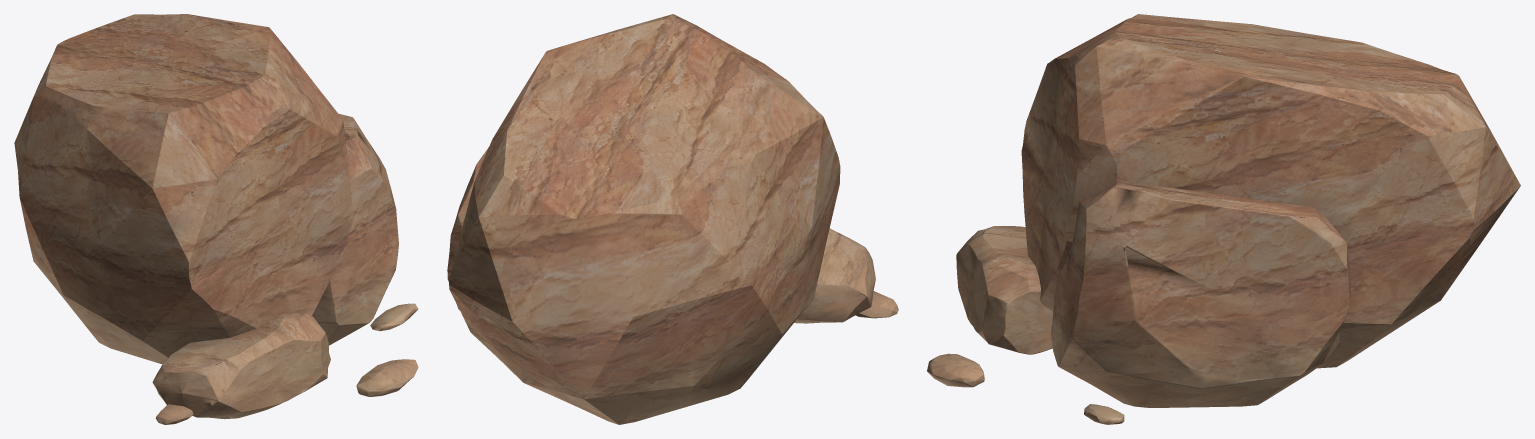
Rendered from flanker_right.glb.
3 renders of one model, left to right at view 1: azimuth 30°, elevation 25°; view 2: azimuth 150°, elevation 25°; view 3: azimuth 270°, elevation 25°, orthographic. The views are drawn at different scales.
Parts seen in each view (by area): view 1: Fractured sanctuary flanker.001; view 2: Fractured sanctuary flanker.001; view 3: Fractured sanctuary flanker.001.
Boxes of the visible parts, x1,y1,x2,y2 form: Fractured sanctuary flanker.001: [14, 14, 418, 424]; Fractured sanctuary flanker.001: [447, 14, 898, 424]; Fractured sanctuary flanker.001: [927, 14, 1520, 424].
Bounding box in the file's own units: 3.65 × 3.14 × 5.3.
1 material, 1 textured.
